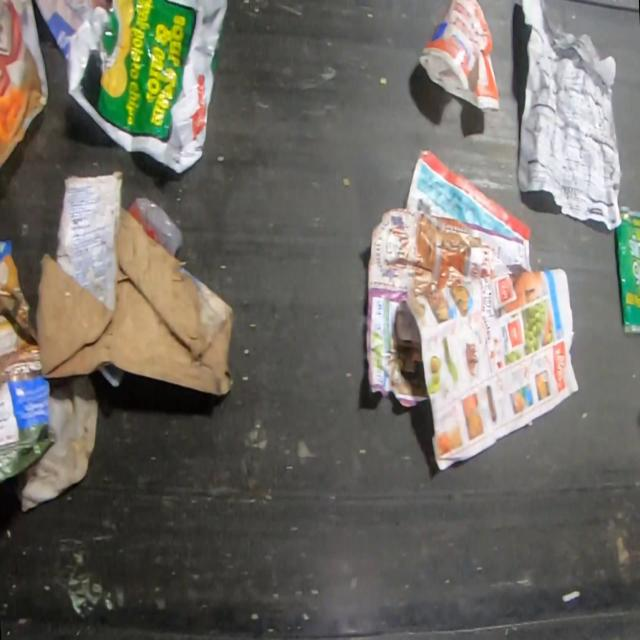cardboard: (36, 173, 234, 394)
rigid_plastic: (418, 0, 500, 112), (128, 195, 187, 256), (98, 362, 122, 388)
soft_plastic: (64, 0, 229, 176), (616, 205, 640, 335)
